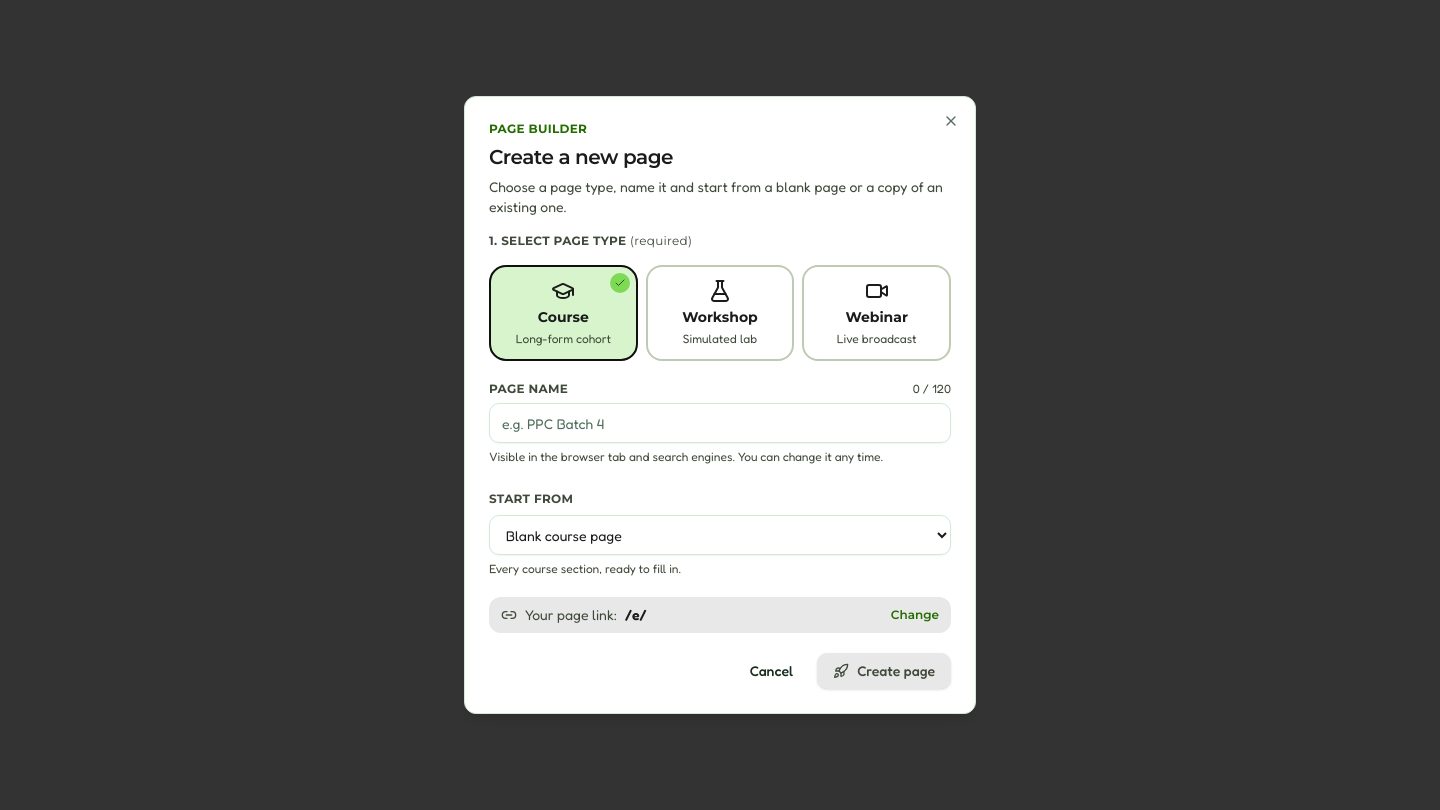
Test: NewPageDialog › shows the server's message when the link is taken and does not navigate
This screenshot has width=1440, height=810.
Type "PPC Batch 3" into the field labelled "Page name" at coordinates (720, 423), box [489, 403, 951, 443]
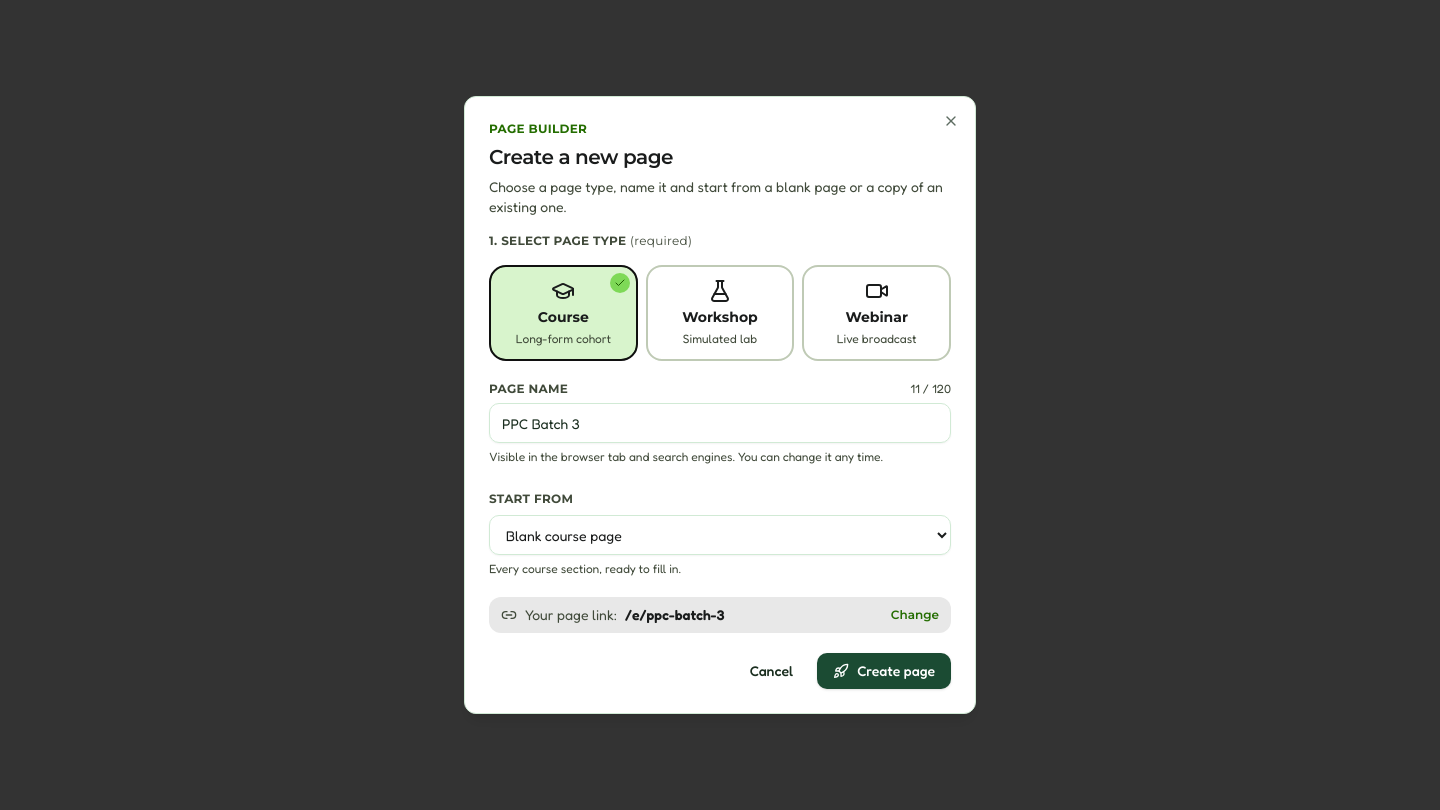
Click the button "Create page" at coordinates (884, 671), box [817, 653, 951, 689]
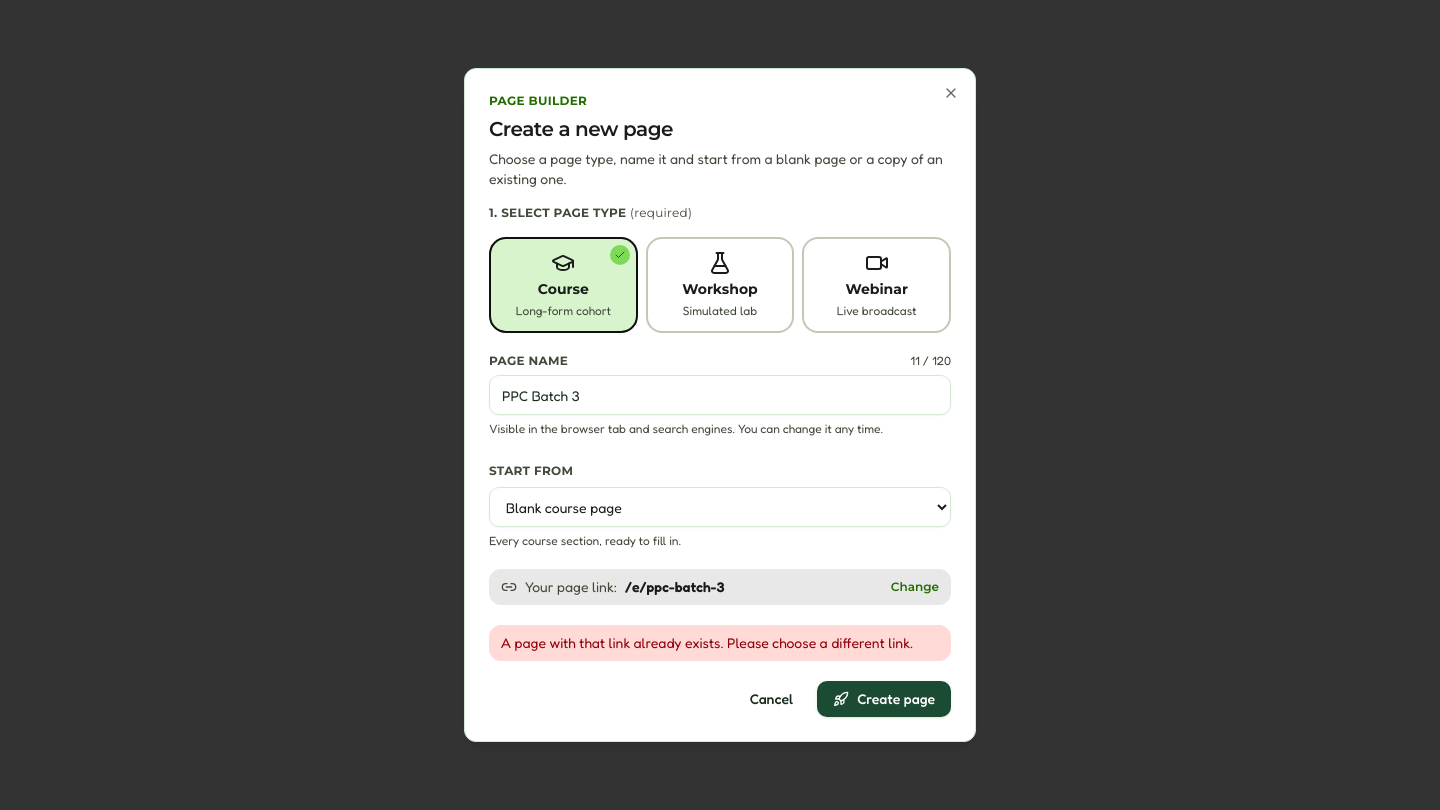
Check: the text "A page with that link already exists. Please choose a different link." is shown, box [489, 625, 951, 661]
